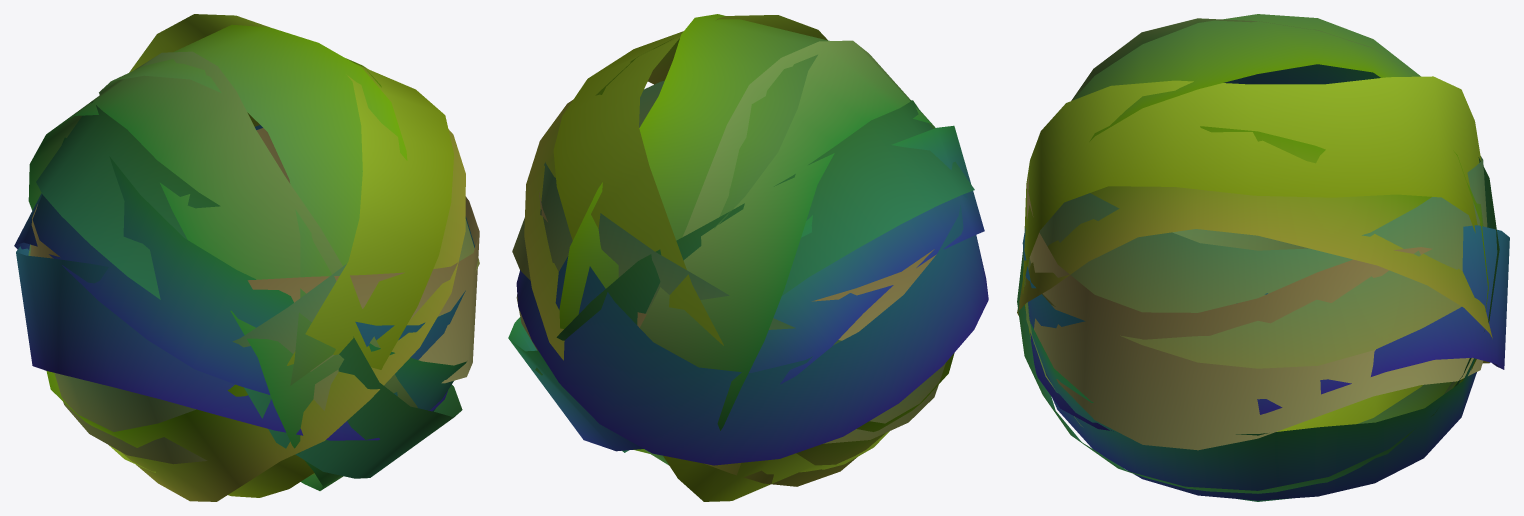
The model's file is Match3d_Fx_Lighting_002.FBX.
3 views of the same model, side by side, from view 1: azimuth 30°, elevation 25°; view 2: azimuth 150°, elevation 25°; view 3: azimuth 270°, elevation 25° (orthographic). The views are drawn at different scales.
Parts seen in each view (by area): view 1: Match3d_Fx_Lighting_002; view 2: Match3d_Fx_Lighting_002; view 3: Match3d_Fx_Lighting_002.
Part boxes in pixels (box(x1,y1,x2,y2)): Match3d_Fx_Lighting_002: box(14, 14, 479, 501); Match3d_Fx_Lighting_002: box(508, 14, 988, 501); Match3d_Fx_Lighting_002: box(1017, 14, 1509, 501).
Bounding box in the file's own units: 261 × 254 × 260.
